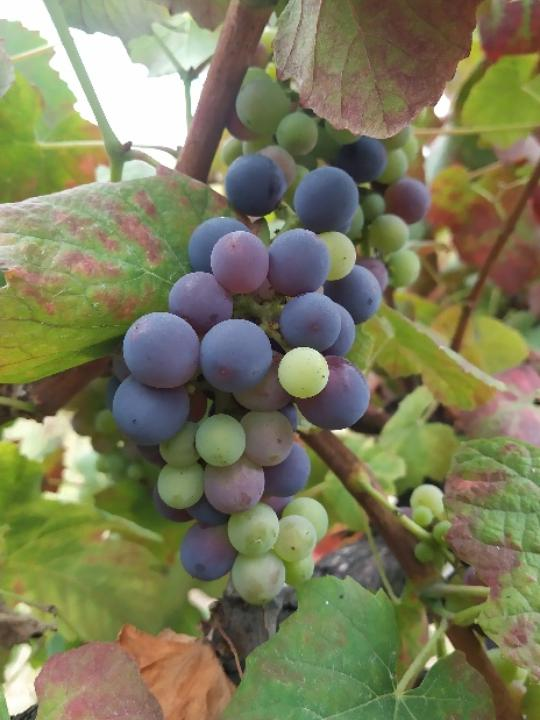grape: (111, 151, 386, 609)
